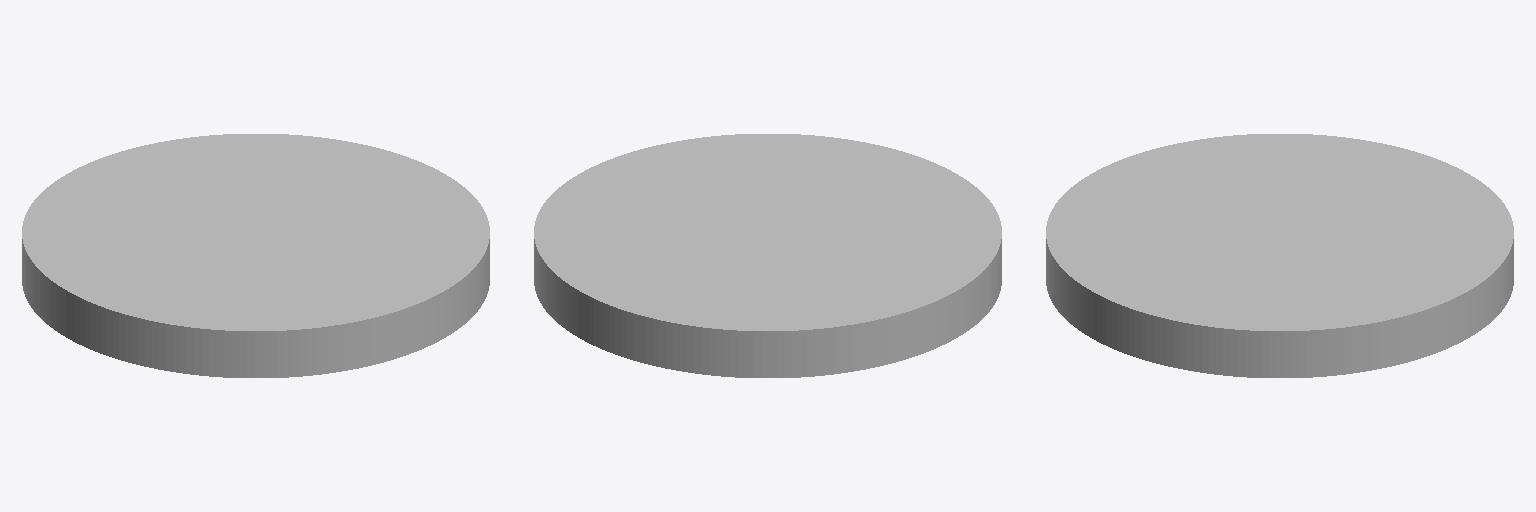
3 renders of one model, left to right at view 1: azimuth 30°, elevation 25°; view 2: azimuth 150°, elevation 25°; view 3: azimuth 270°, elevation 25°, orthographic.
Visible parts, largest first — view 1: Part_Studio_1_-_Base; view 2: Part_Studio_1_-_Base; view 3: Part_Studio_1_-_Base.
Part boxes in pixels (bbox=[...]): Part_Studio_1_-_Base: bbox=[22, 134, 489, 377]; Part_Studio_1_-_Base: bbox=[534, 134, 1001, 377]; Part_Studio_1_-_Base: bbox=[1046, 134, 1513, 377].
Size of the model in its own units: 900 by 100 by 900.